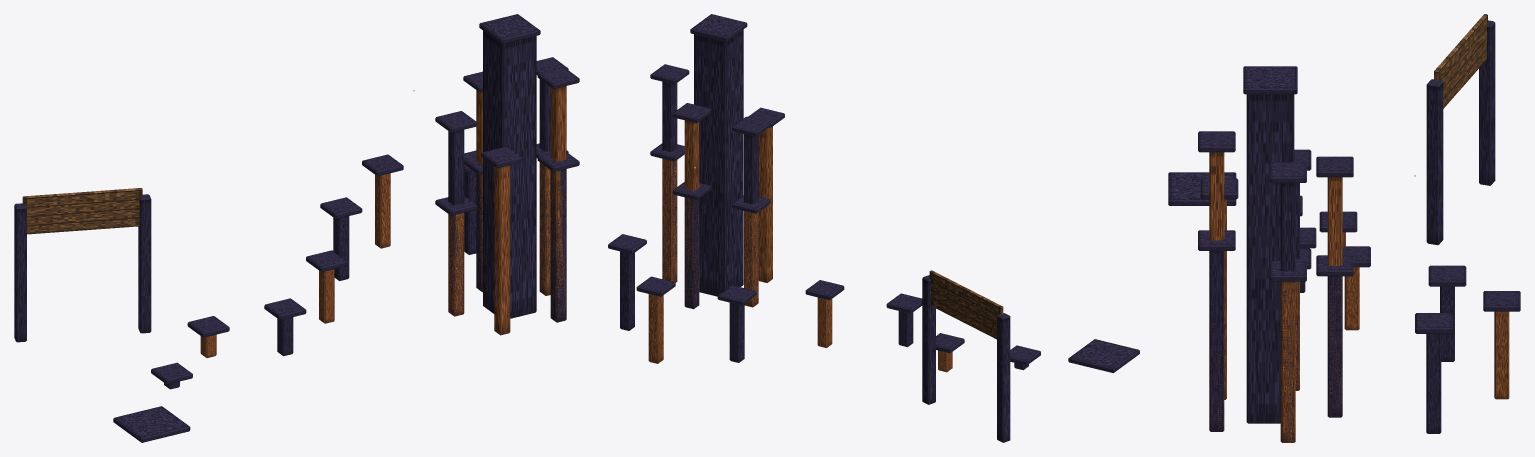
File: env_obby_pro.fbx
The picture shows the model from 3 angles, left to right: view 1: azimuth 30°, elevation 25°; view 2: azimuth 150°, elevation 25°; view 3: azimuth 270°, elevation 25°; orthographic projection. The views are drawn at different scales.
Visible parts, largest first — view 1: env_obby_pro; view 2: env_obby_pro; view 3: env_obby_pro.
Boxes of the visible parts, left/top/right/bottom form: env_obby_pro: left=14, top=14, right=579, bottom=442; env_obby_pro: left=608, top=14, right=1139, bottom=442; env_obby_pro: left=1168, top=14, right=1520, bottom=442.
Size of the model in its own units: 94.88 by 55 by 51.75.
Materials: 2 (1 with a texture image).
